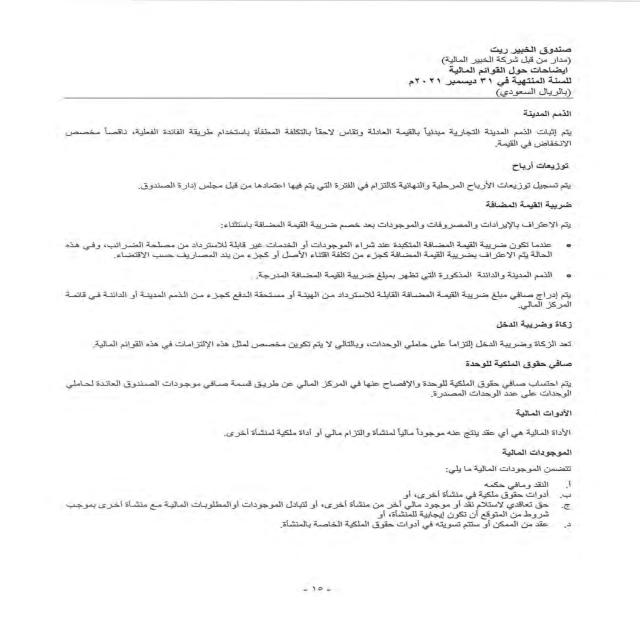notes: (442, 64, 575, 76)
text: (24, 100, 606, 556)
